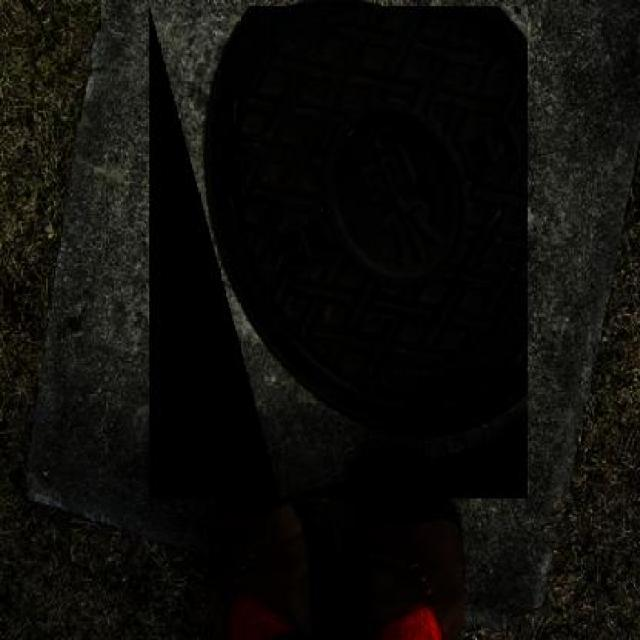Open Manhole: (150, 6, 529, 500)
